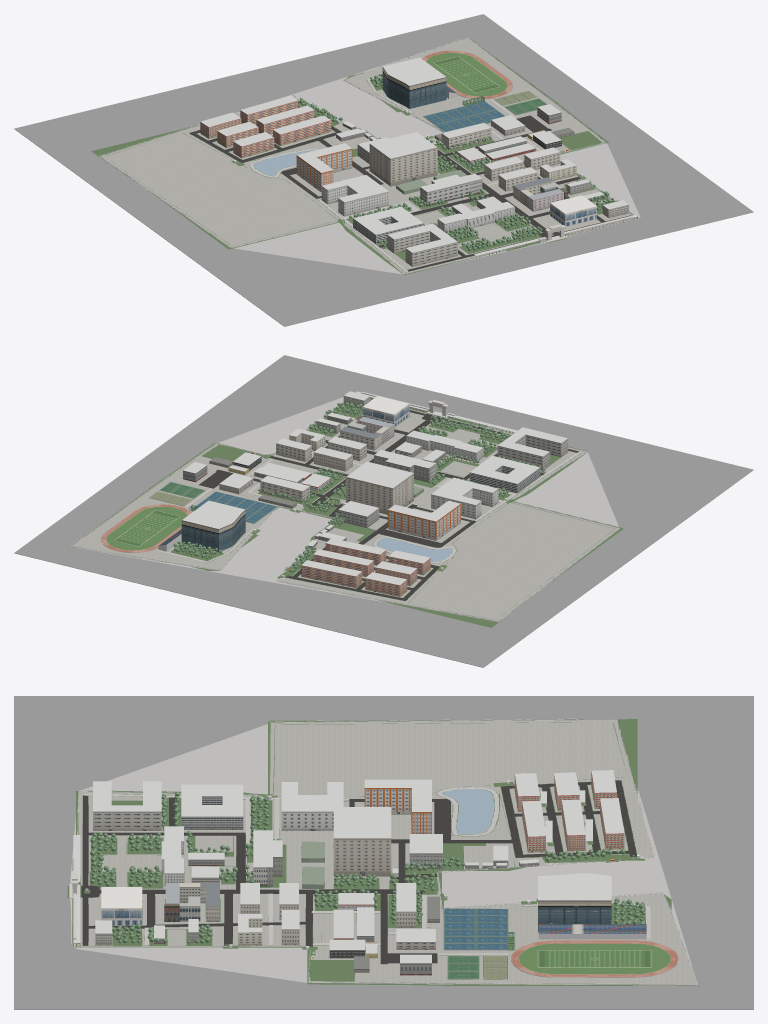
Rendered from campus.glb.
3 views of the same model, one above another, from view 1: azimuth 30°, elevation 25°; view 2: azimuth 150°, elevation 25°; view 3: azimuth 270°, elevation 25° (orthographic). The views are drawn at different scales.
Parts seen in each view (by area): view 1: 基座, 青蓝广场01, 校园轮廓, 绿化面, 广场01, 车行道01, 树林, 楼20, 楼01_体育场, 楼05, 楼25, 围栏 (+21 smaller); view 2: 基座, 青蓝广场01, 校园轮廓, 绿化面, 广场01, 树林, 车行道01, 楼01_体育场, 楼20, 楼05, 楼17, 围栏 (+21 smaller); view 3: 基座, 青蓝广场01, 校园轮廓, 绿化面, 车行道01, 广场01, 树林, 楼01_体育场, 楼20, 楼05, 围栏, 楼31 (+47 smaller).
Boxes of the visible parts, x1,y1,x2,y2 form: 基座: (14,14,753,326); 青蓝广场01: (105,133,337,245); 校园轮廓: (139,44,640,274); 绿化面: (91,37,638,275); 广场01: (344,38,605,151); 车行道01: (189,101,631,271); 树林: (300,74,619,251); 楼20: (369,132,437,186); 楼01_体育场: (422,50,512,98); 楼05: (382,57,446,108); 楼25: (321,175,388,216); 围栏: (99,36,636,274); 基座: (14,355,753,667); 青蓝广场01: (408,502,614,620); 校园轮廓: (74,397,618,602); 绿化面: (70,398,623,627); 广场01: (70,444,331,570); 树林: (173,402,545,573); 车行道01: (199,400,578,600); 楼01_体育场: (101,504,191,552); 楼20: (346,461,413,514); 楼05: (181,500,245,551); 楼17: (387,500,460,540); 围栏: (69,402,620,621); 基座: (14,696,753,1009); 青蓝广场01: (273,722,627,796); 校园轮廓: (70,724,696,982); 绿化面: (67,719,700,986); 车行道01: (81,780,636,963); 广场01: (309,873,697,985); 树林: (90,792,645,945); 楼01_体育场: (511,940,678,977); 楼20: (333,807,391,876); 楼05: (538,873,611,931); 围栏: (71,718,697,985); 楼31: (181,784,243,829).
Bounding box in the file's own units: 831 × 47.5 × 829.
53 materials, 37 textured.
